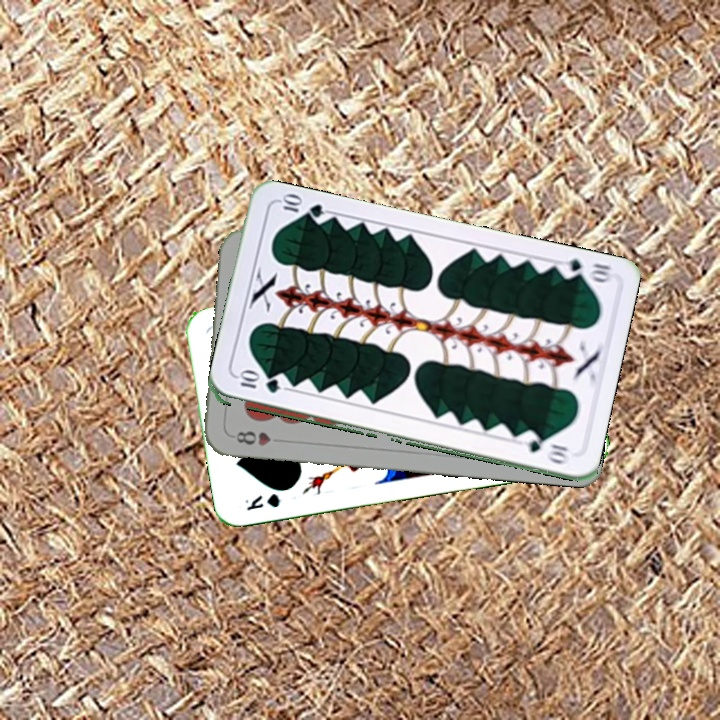G10: (554, 255, 614, 286), (234, 371, 283, 396)
GK: (240, 489, 282, 513)
H8: (232, 427, 274, 448)
